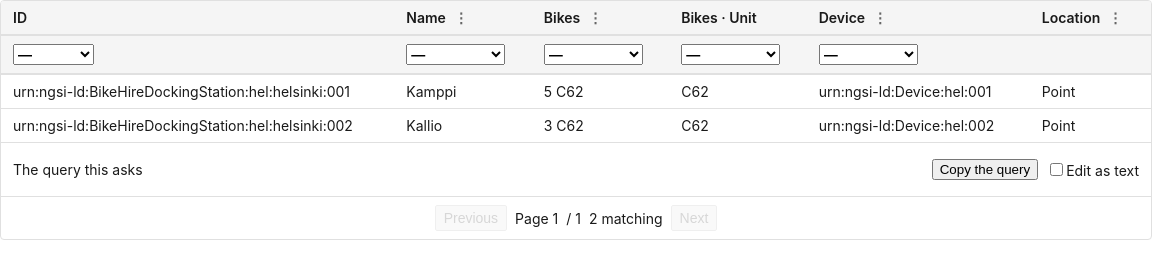
it: EntityGrid › the filter row › sends the query the chosen operator and value compose
Expected: the text "Kamppi" is shown, [394, 74, 532, 108]
Select ">" in the dropdown named "Filter: Bikes": point(593, 54) [544, 44, 643, 65]
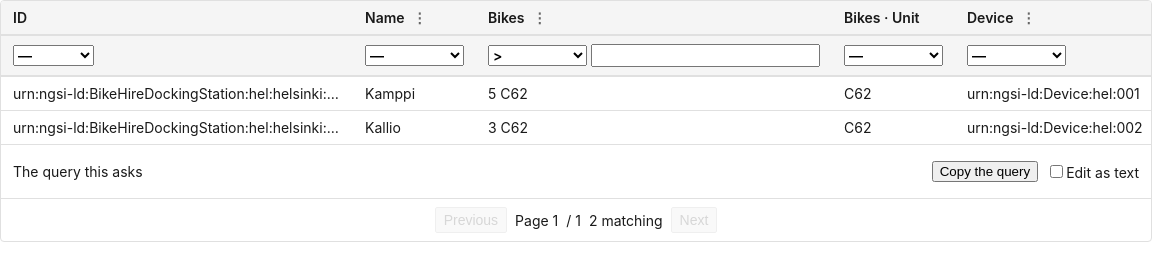
In the number field named "Value: Bikes": point(706, 56) [591, 44, 820, 67], type "4"
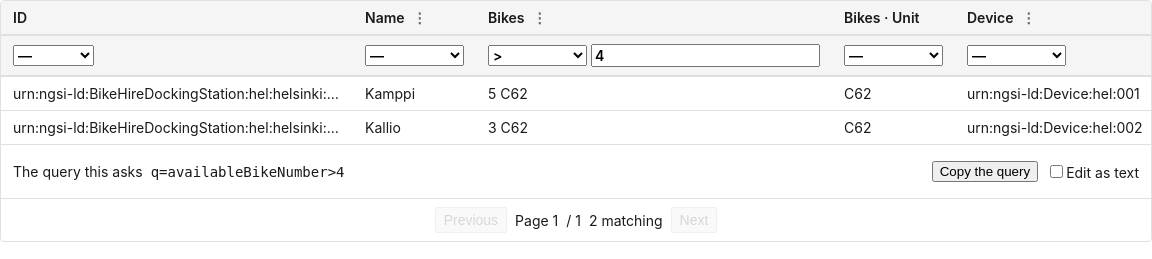
Expected: the text "q=availableBikeNumber>4" is shown, [151, 164, 344, 180]
